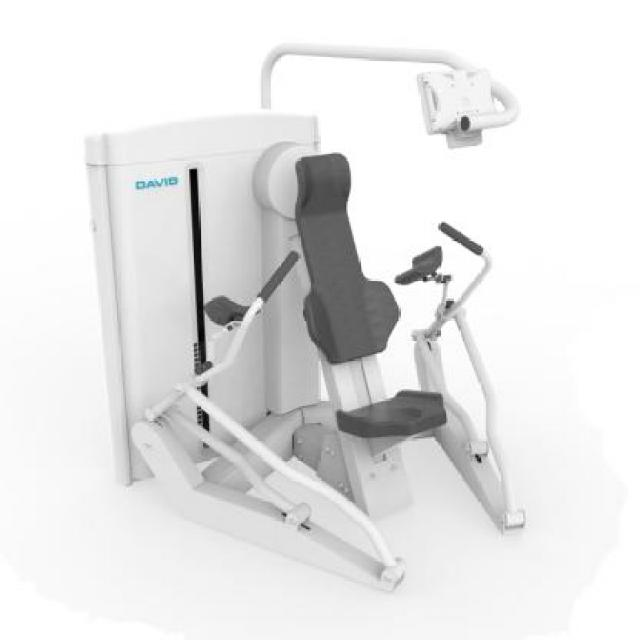Chest Press machine: (83, 35, 535, 597)
